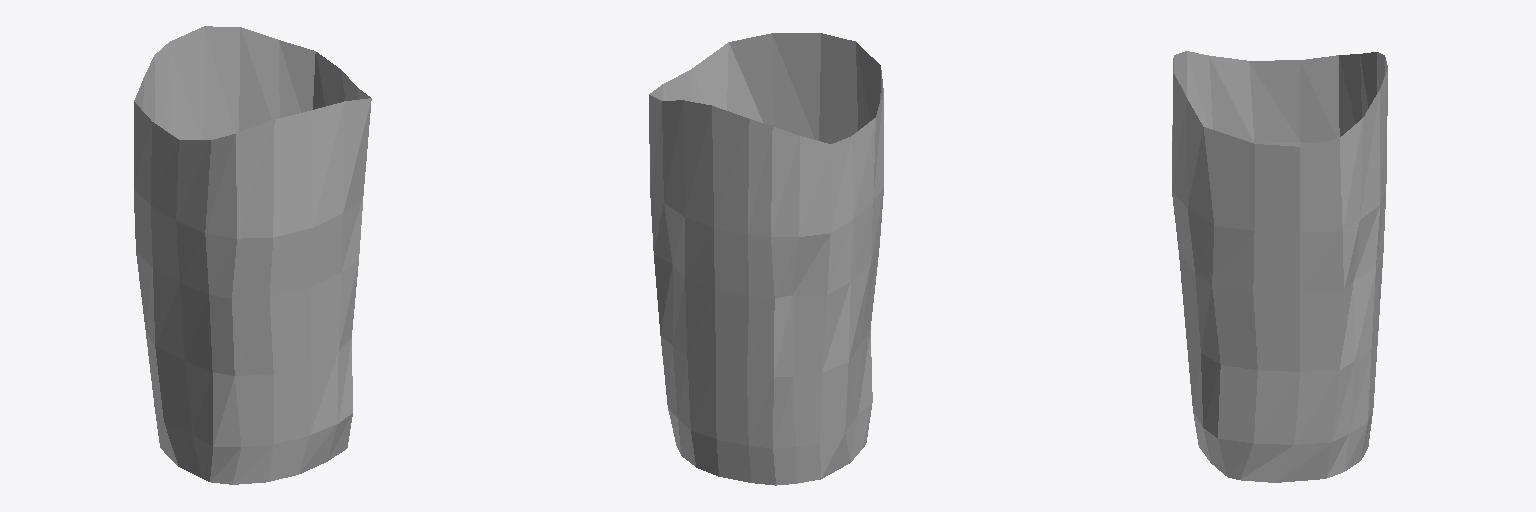
Rendered from rightArm4Cover.obj.
3 views of the same model, side by side, from view 1: azimuth 30°, elevation 25°; view 2: azimuth 150°, elevation 25°; view 3: azimuth 270°, elevation 25° (orthographic).
Visible parts, largest first — view 1: unnamed_object1; view 2: unnamed_object1; view 3: unnamed_object1.
Boxes of the visible parts, x1=… form: unnamed_object1: x1=134, y1=26, x2=371, y2=484; unnamed_object1: x1=649, y1=33, x2=883, y2=485; unnamed_object1: x1=1172, y1=51, x2=1387, y2=482.
Size of the model in its own units: 7.07 by 13.44 by 6.95.